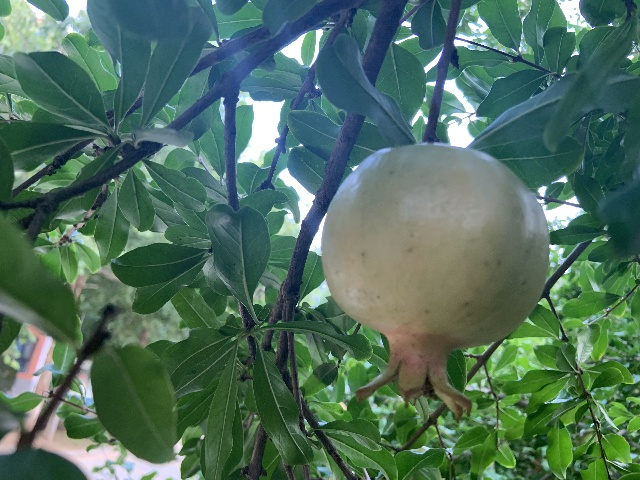mid-growth: (320, 143, 550, 421)
